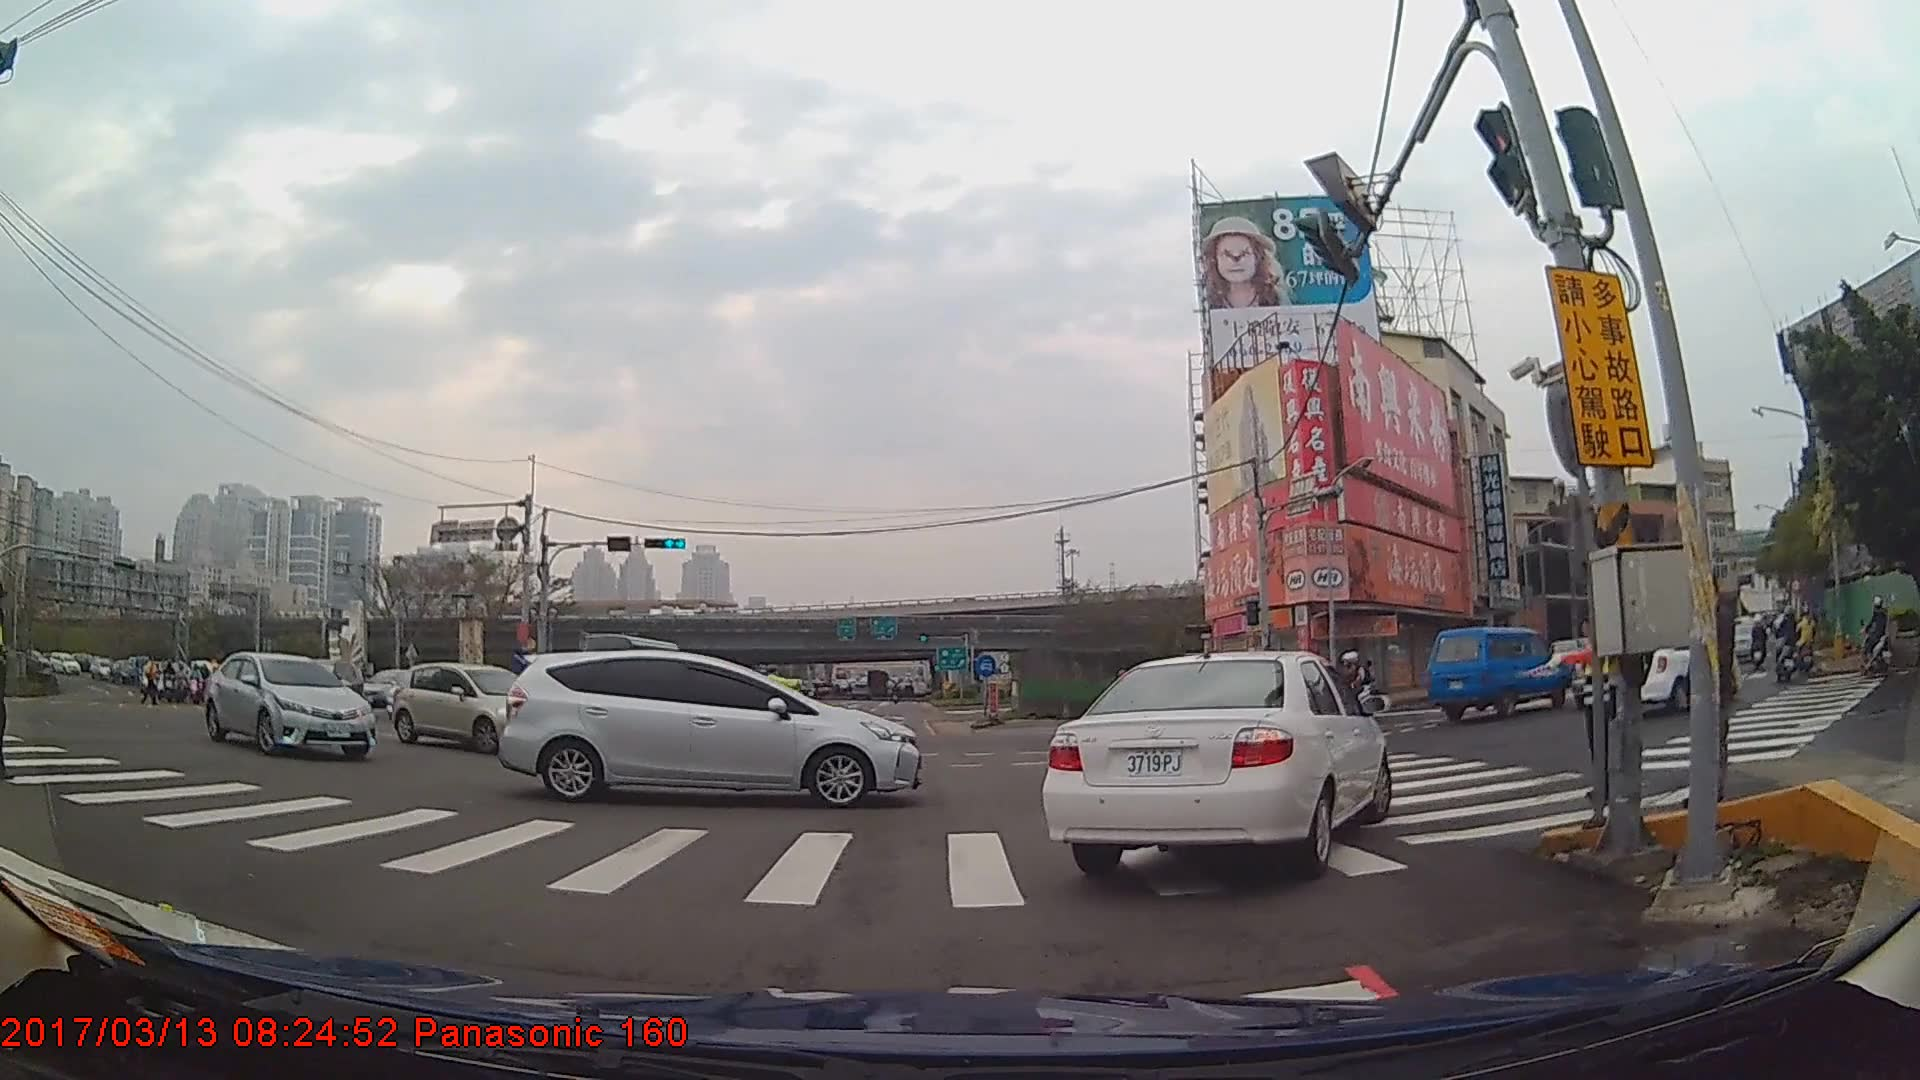pedestrian: (1661, 558, 1742, 818)
rider: (1859, 592, 1894, 682), (1774, 605, 1802, 683), (1794, 606, 1817, 681), (1750, 613, 1770, 673)
vehicle: (1045, 645, 1392, 875), (495, 650, 917, 811), (202, 652, 378, 763), (390, 661, 545, 751), (1420, 625, 1566, 719)
